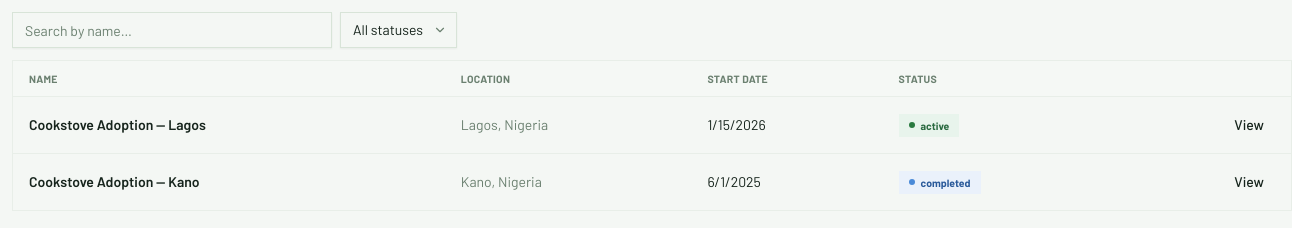
Test: ProjectsTable › filters by status
The width and height of the screenshot is (1292, 228).
Select "Completed" in the dropdown showing "All statuses" at (398, 30), box [340, 12, 457, 48]
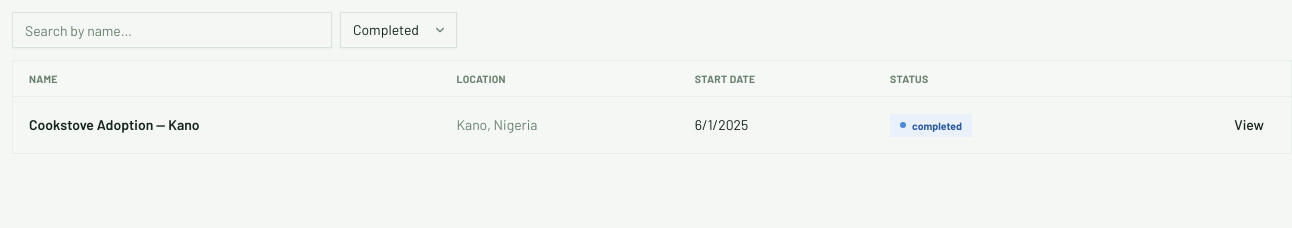
Check: the text "Cookstove Adoption — Lagos" is gone
Check: the text "Cookstove Adoption — Kano" is shown, box [29, 116, 200, 133]
